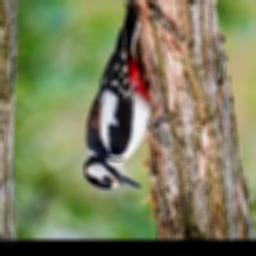Woodpecker: (83, 0, 151, 188)
